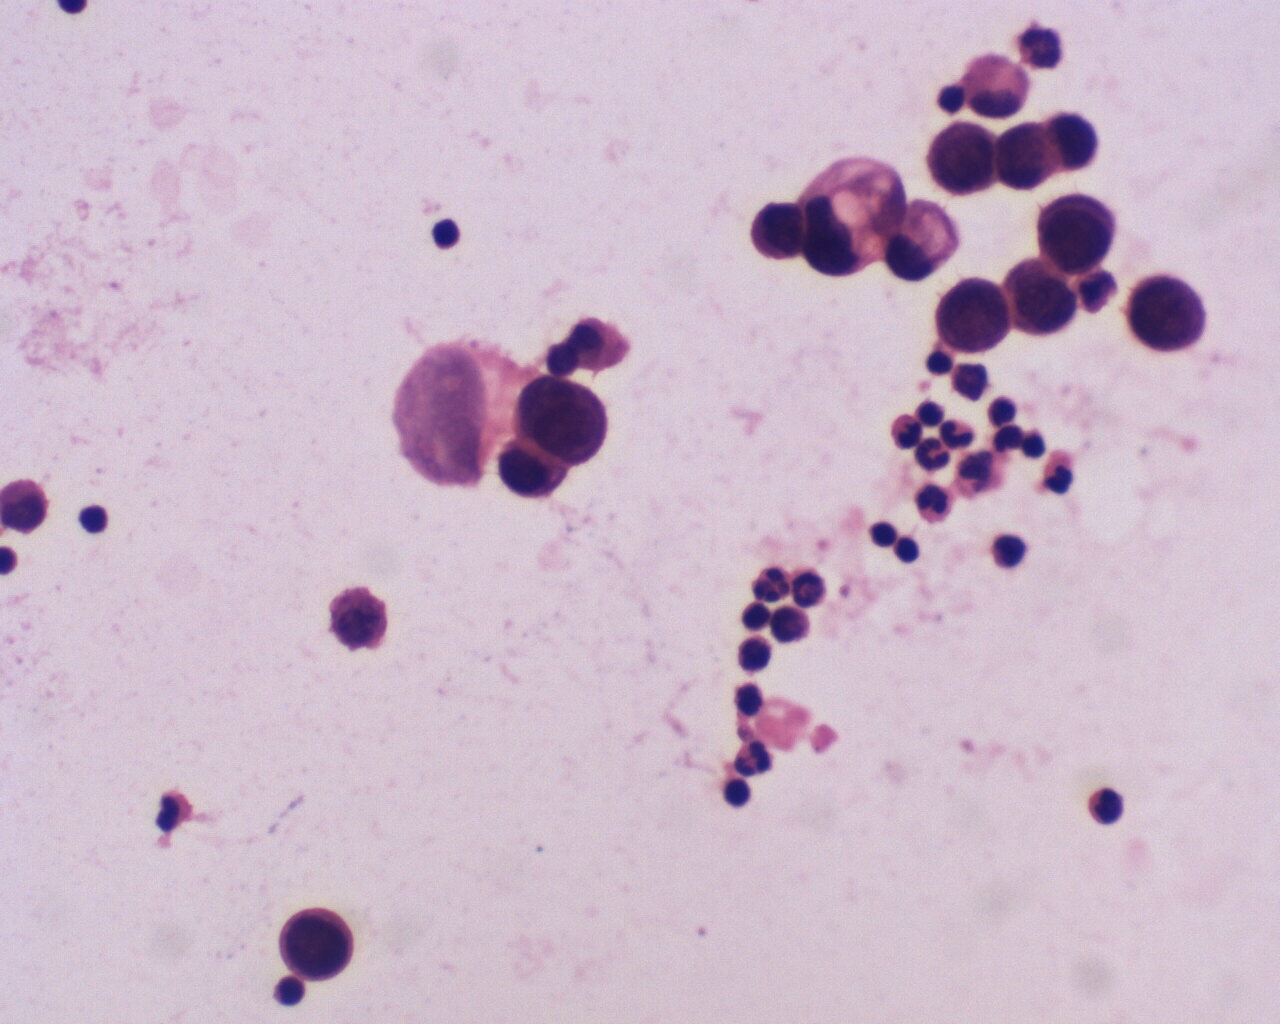ab: (797, 152, 901, 280), (510, 374, 608, 467), (1121, 267, 1211, 357), (884, 193, 968, 284), (1039, 189, 1120, 274), (276, 902, 357, 983), (933, 276, 1014, 353), (999, 262, 1077, 336), (927, 123, 999, 199), (491, 432, 571, 499), (997, 120, 1057, 193), (747, 197, 806, 263)
histo: (957, 52, 1034, 120)
lymph: (1085, 779, 1127, 829), (428, 209, 469, 256), (71, 503, 114, 542), (892, 532, 929, 566)
neutro: (734, 737, 778, 781), (753, 563, 794, 606), (915, 430, 952, 474), (942, 408, 979, 448)
